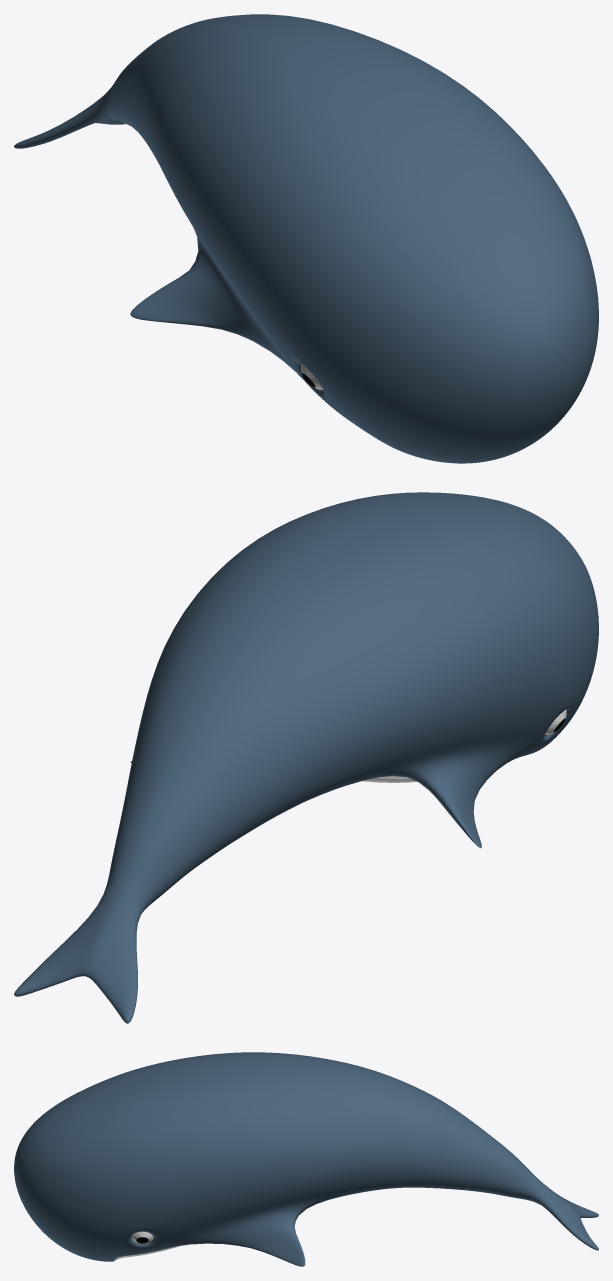
Rendered from Ballena.fbx.
3 views of the same model, one above another, from view 1: azimuth 30°, elevation 25°; view 2: azimuth 150°, elevation 25°; view 3: azimuth 270°, elevation 25° (orthographic). The views are drawn at different scales.
Parts seen in each view (by area): view 1: Whale.001; view 2: Whale.001; view 3: Whale.001.
Boxes of the visible parts, x1=… form: Whale.001: x1=14, y1=14, x2=598, y2=463; Whale.001: x1=14, y1=492, x2=598, y2=1023; Whale.001: x1=14, y1=1052, x2=598, y2=1266.
Size of the model in its own units: 24.6 by 19.97 by 56.64.
